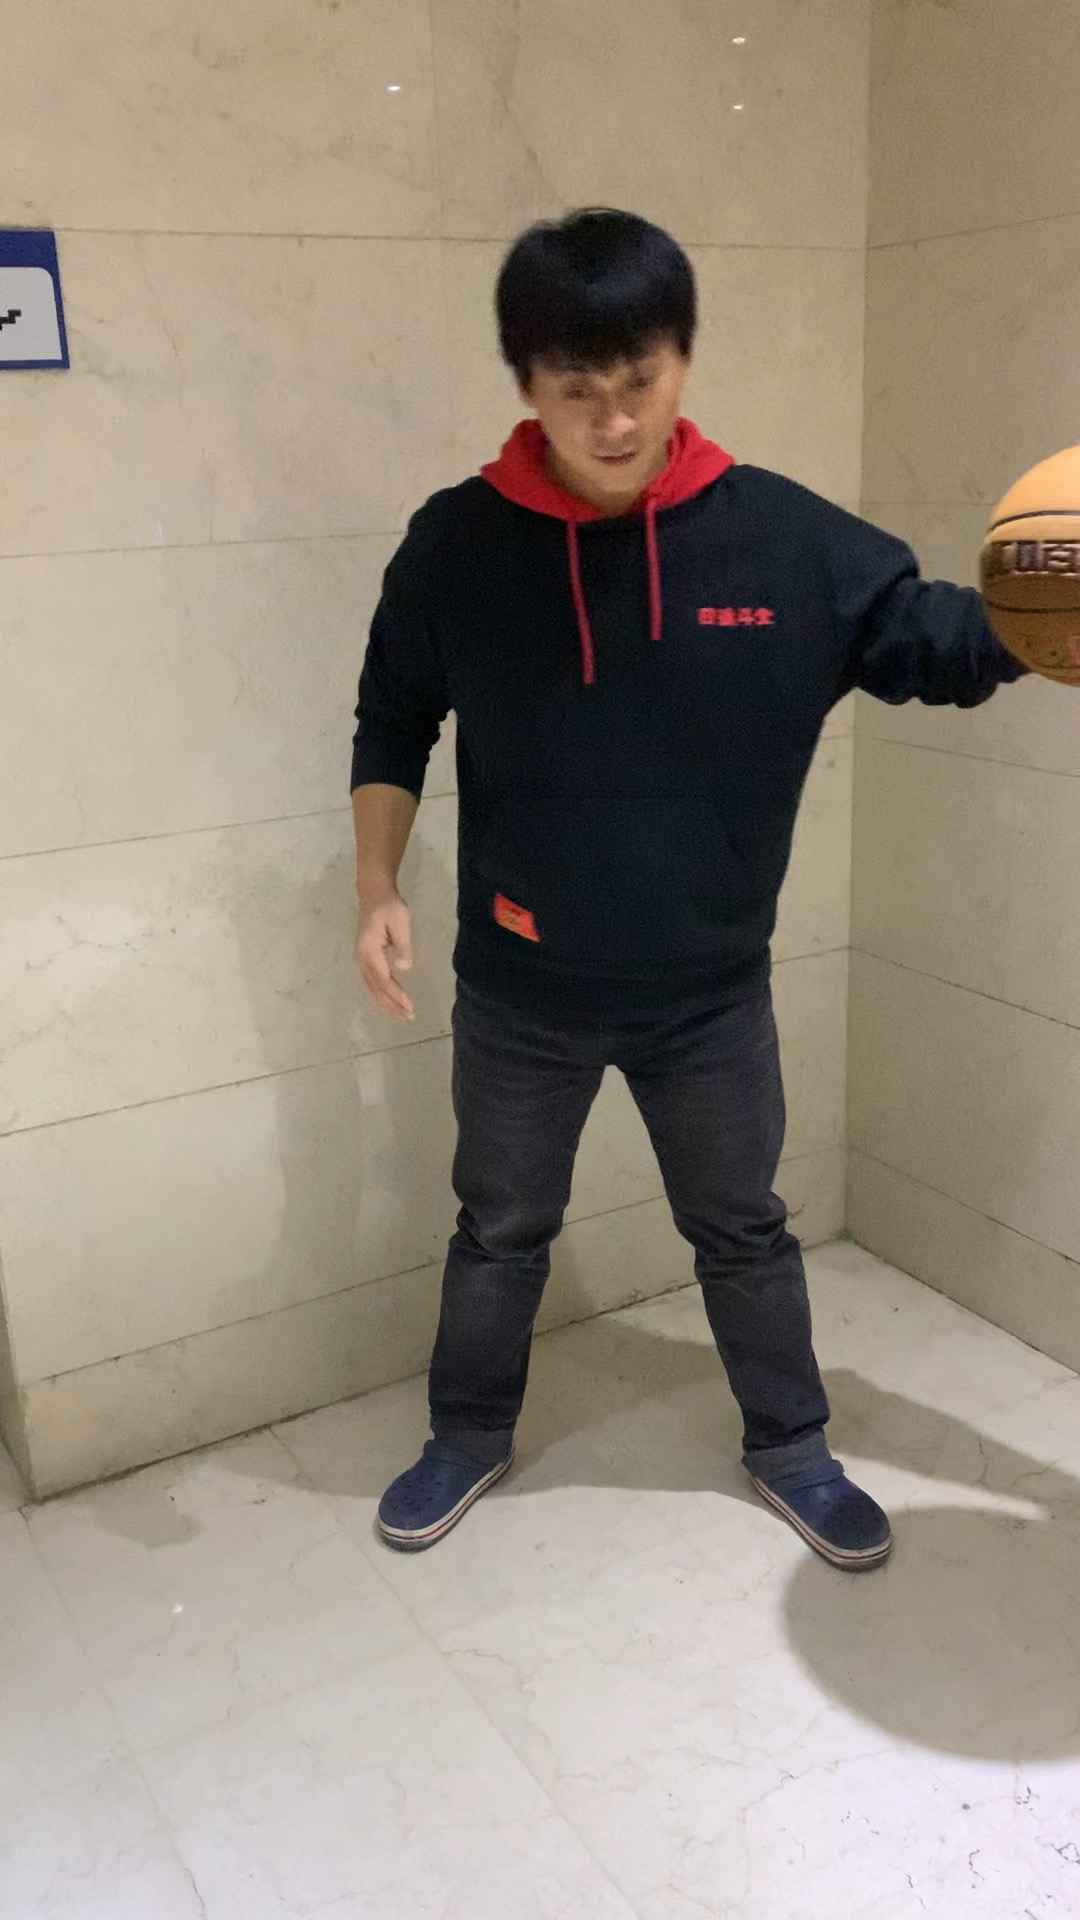ball: (976, 427, 1080, 699)
